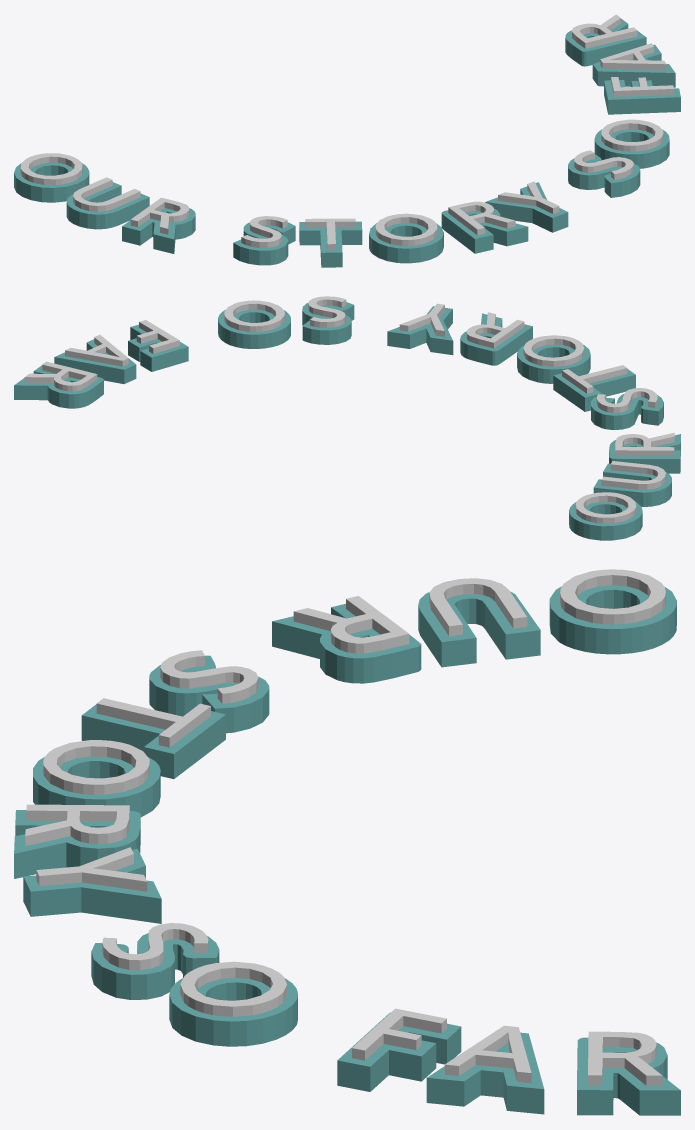
Rendered from SIDE3-title.glb.
The picture shows the model from 3 angles, top to bottom: view 1: azimuth 30°, elevation 25°; view 2: azimuth 150°, elevation 25°; view 3: azimuth 270°, elevation 25°; orthographic projection. The views are drawn at different scales.
Parts seen in each view (by area): view 1: Mesh_Mesh_head_geo.001_lambert2SG.001; view 2: Mesh_Mesh_head_geo.001_lambert2SG.001; view 3: Mesh_Mesh_head_geo.001_lambert2SG.001.
Part boxes in pixels (x1,y1,x2,y2): Mesh_Mesh_head_geo.001_lambert2SG.001: (14, 14, 680, 267); Mesh_Mesh_head_geo.001_lambert2SG.001: (14, 296, 680, 540); Mesh_Mesh_head_geo.001_lambert2SG.001: (14, 569, 680, 1115).
Bounding box in the file's own units: 219 × 7 × 120.
